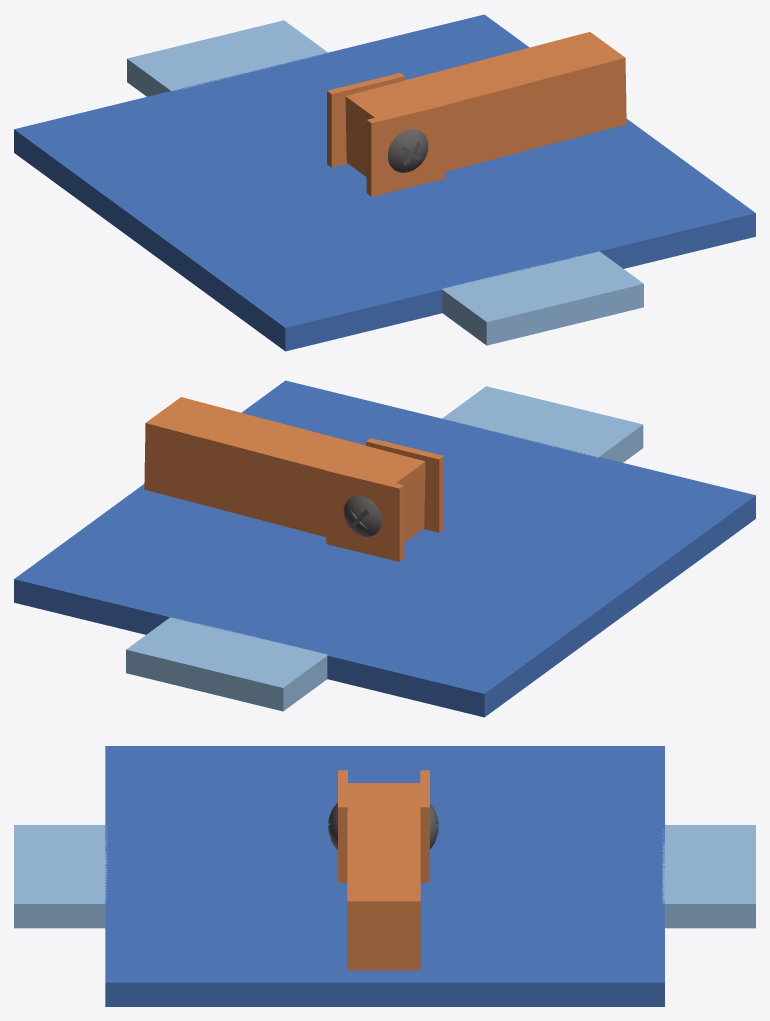
File: woodShake.fbx
The picture shows the model from 3 angles, top to bottom: view 1: azimuth 30°, elevation 25°; view 2: azimuth 150°, elevation 25°; view 3: azimuth 270°, elevation 25°; orthographic projection. The views are drawn at different scales.
Parts seen in each view (by area): view 1: trap41, trap43, trap42; view 2: trap41, trap43, trap42; view 3: trap41, trap43, trap42.
Part boxes in pixels (x1,y1,x2,y2): trap41: (14, 14, 755, 351); trap43: (345, 32, 626, 176); trap42: (327, 73, 444, 196); trap41: (14, 380, 755, 717); trap43: (144, 397, 425, 542); trap42: (326, 438, 443, 561); trap41: (14, 746, 755, 1006); trap43: (347, 783, 420, 970); trap42: (328, 770, 438, 882).
Size of the model in its own units: 1048 by 206 by 1389.
